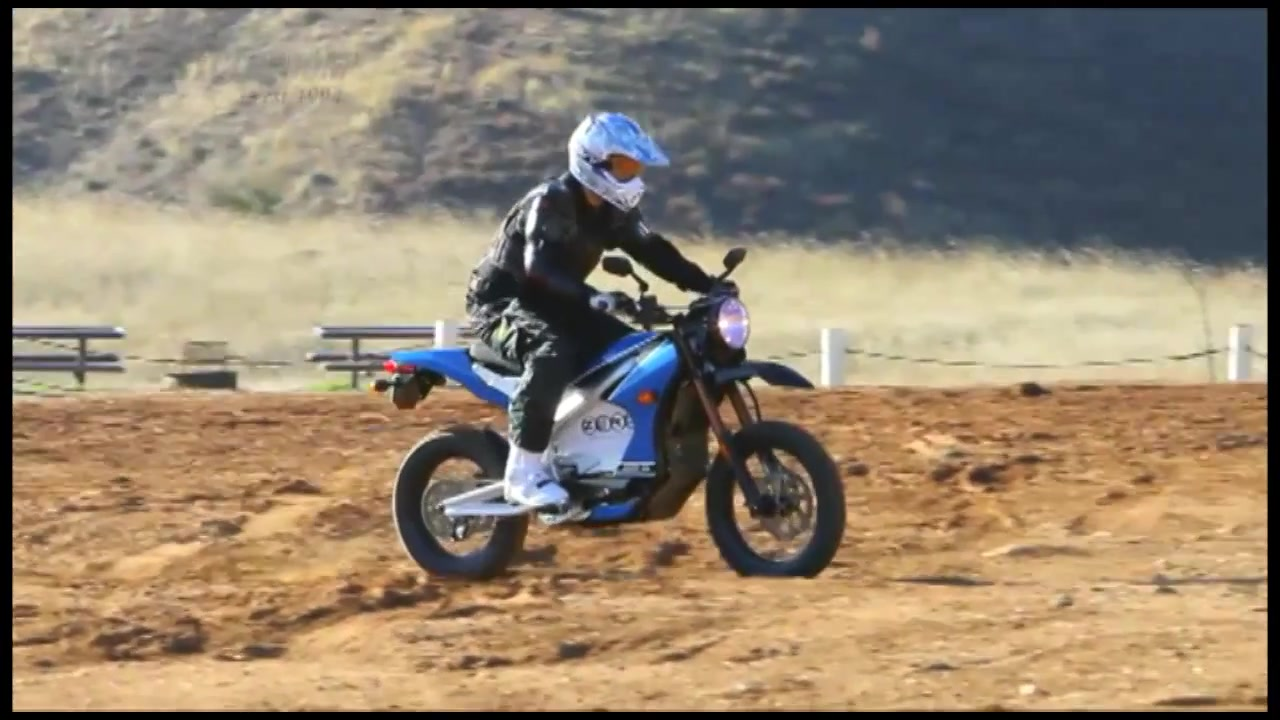motorbike: (382, 249, 854, 582)
